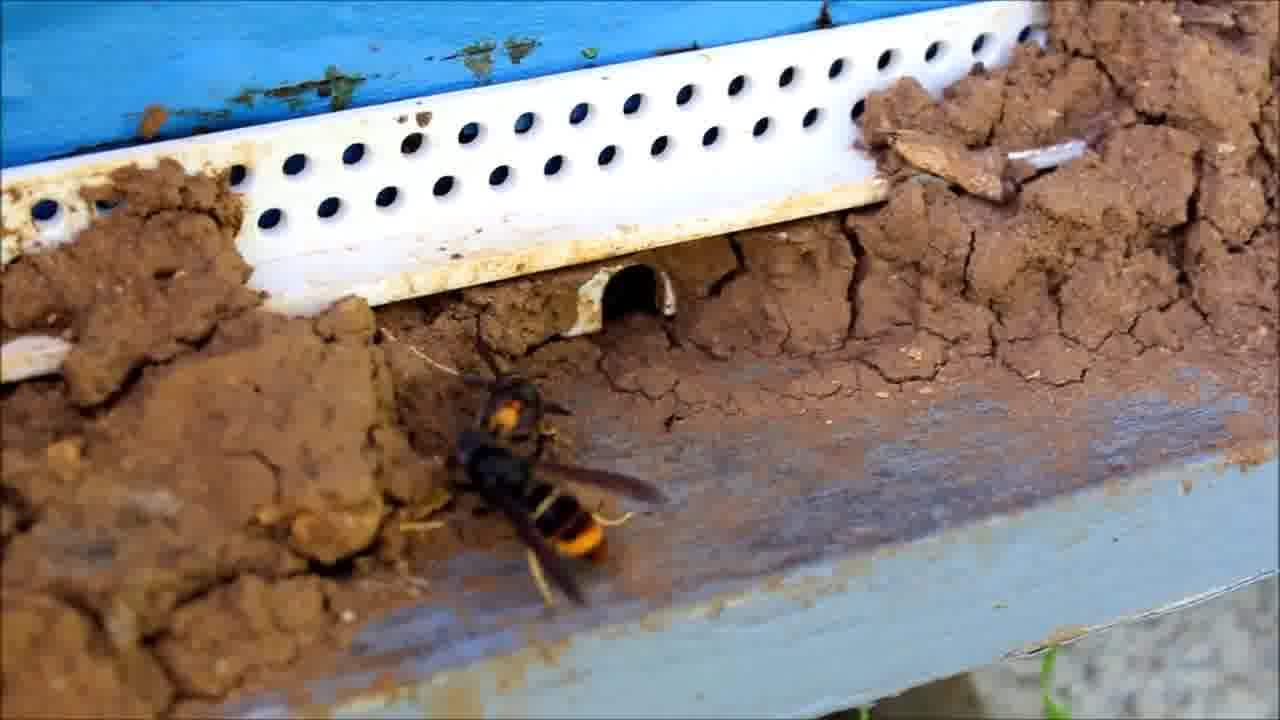hornet: (420, 426, 683, 605), (447, 345, 577, 446)
